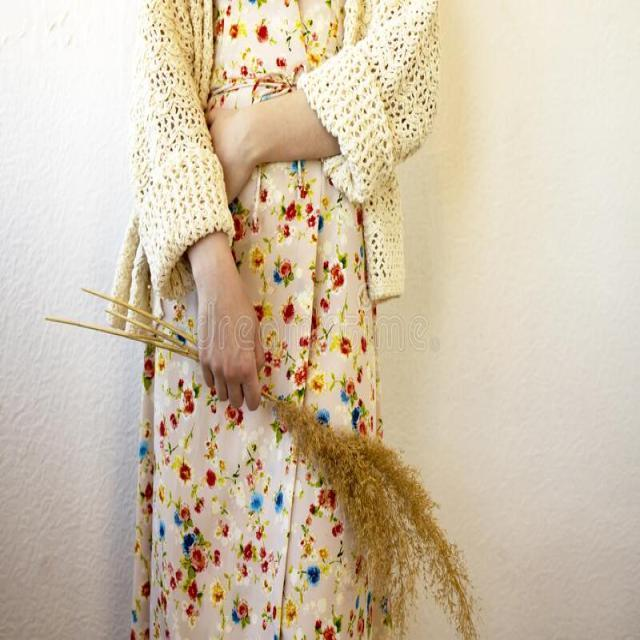clothes: (120, 8, 423, 640)
